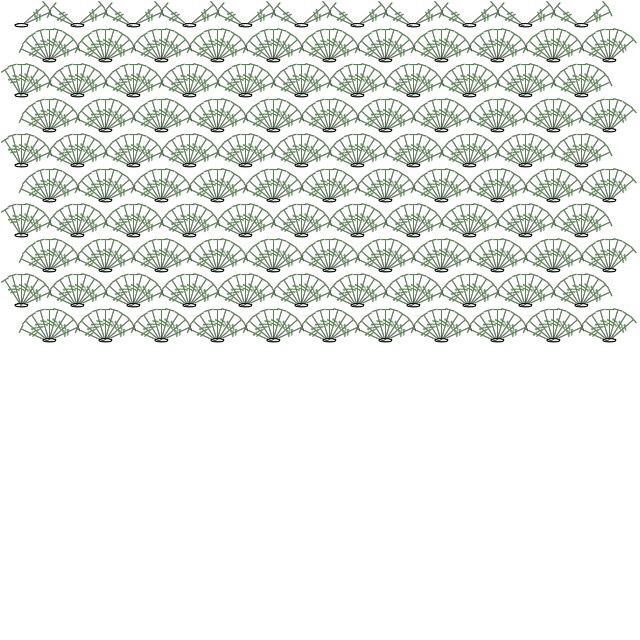chain: (14, 22, 30, 30), (70, 22, 86, 30), (126, 22, 142, 30), (182, 22, 198, 30), (238, 22, 254, 30), (294, 22, 310, 30), (350, 22, 366, 30), (406, 22, 422, 30), (462, 22, 478, 30), (518, 22, 534, 30), (574, 22, 590, 30), (14, 92, 30, 100), (70, 92, 86, 100), (126, 92, 142, 100), (182, 92, 198, 100), (238, 92, 254, 100), (294, 92, 310, 100), (350, 92, 366, 100), (406, 92, 422, 100), (462, 92, 478, 100), (518, 92, 534, 100), (574, 92, 590, 100), (14, 162, 30, 170), (70, 162, 86, 170), (126, 162, 142, 170), (182, 162, 198, 170), (238, 162, 254, 170), (294, 162, 310, 170), (350, 162, 366, 170), (406, 162, 422, 170), (462, 162, 478, 170), (518, 162, 534, 170), (574, 162, 590, 170), (14, 232, 30, 240), (70, 232, 86, 240), (126, 232, 142, 240), (182, 232, 198, 240), (238, 232, 254, 240), (294, 232, 310, 240), (350, 232, 366, 240), (406, 232, 422, 240), (462, 232, 478, 240), (518, 232, 534, 240), (574, 232, 590, 240), (14, 302, 30, 310), (70, 302, 86, 310), (126, 302, 142, 310), (182, 302, 198, 310), (238, 302, 254, 310), (294, 302, 310, 310), (350, 302, 366, 310), (406, 302, 422, 310), (462, 302, 478, 310), (518, 302, 534, 310), (574, 302, 590, 310), (42, 58, 58, 64), (98, 58, 114, 64), (154, 58, 170, 64), (210, 58, 226, 64), (266, 58, 282, 64), (322, 58, 338, 64), (378, 58, 394, 64), (434, 58, 450, 64), (490, 58, 506, 64), (546, 58, 562, 64), (602, 58, 618, 64), (42, 128, 58, 134), (98, 128, 114, 134), (154, 128, 170, 134), (210, 128, 226, 134), (266, 128, 282, 134), (322, 128, 338, 134), (378, 128, 394, 134), (434, 128, 450, 134), (490, 128, 506, 134), (546, 128, 562, 134), (602, 128, 618, 134), (42, 198, 58, 204), (98, 198, 114, 204), (154, 198, 170, 204), (210, 198, 226, 204), (266, 198, 282, 204), (322, 198, 338, 204), (378, 198, 394, 204), (434, 198, 450, 204), (490, 198, 506, 204), (546, 198, 562, 204), (602, 198, 618, 204), (42, 268, 58, 274), (98, 268, 114, 274), (154, 268, 170, 274), (210, 268, 226, 274), (266, 268, 282, 274), (322, 268, 338, 274), (378, 268, 394, 274), (434, 268, 450, 274), (490, 268, 506, 274), (546, 268, 562, 274), (602, 268, 618, 274), (42, 338, 58, 344), (98, 338, 114, 344), (154, 338, 170, 344), (210, 338, 226, 344), (266, 338, 282, 344), (322, 338, 338, 344), (378, 338, 394, 344), (434, 338, 450, 344), (490, 338, 506, 344), (546, 338, 562, 344), (602, 338, 618, 344)
fan: (18, 0, 51, 31), (49, 0, 82, 31), (74, 0, 107, 31), (105, 0, 138, 31), (130, 0, 163, 31), (161, 0, 194, 31), (186, 0, 219, 31), (217, 0, 250, 31), (242, 0, 275, 31), (273, 0, 306, 31), (298, 0, 331, 31), (329, 0, 362, 31), (354, 0, 387, 31), (385, 0, 418, 31), (410, 0, 443, 31), (441, 0, 474, 31), (466, 0, 499, 31), (497, 0, 530, 31), (522, 0, 555, 31), (553, 0, 586, 31), (578, 0, 611, 31), (21, 35, 54, 66), (46, 35, 79, 66), (77, 35, 110, 66), (102, 35, 135, 66), (133, 35, 166, 66), (158, 35, 191, 66), (189, 35, 222, 66), (214, 35, 247, 66), (245, 35, 278, 66), (270, 35, 303, 66), (301, 35, 334, 66), (326, 35, 359, 66), (357, 35, 390, 66), (382, 35, 415, 66), (413, 35, 446, 66), (438, 35, 471, 66), (469, 35, 502, 66), (494, 35, 527, 66), (525, 35, 558, 66), (550, 35, 583, 66), (581, 35, 614, 66), (606, 35, 639, 66), (18, 70, 51, 101), (49, 70, 82, 101), (74, 70, 107, 101), (105, 70, 138, 101), (130, 70, 163, 101), (161, 70, 194, 101), (186, 70, 219, 101), (217, 70, 250, 101), (242, 70, 275, 101), (273, 70, 306, 101), (298, 70, 331, 101), (329, 70, 362, 101), (354, 70, 387, 101), (385, 70, 418, 101), (410, 70, 443, 101), (441, 70, 474, 101), (466, 70, 499, 101), (497, 70, 530, 101), (522, 70, 555, 101), (553, 70, 586, 101), (578, 70, 611, 101), (21, 105, 54, 136), (46, 105, 79, 136), (77, 105, 110, 136), (102, 105, 135, 136), (133, 105, 166, 136), (158, 105, 191, 136), (189, 105, 222, 136), (214, 105, 247, 136), (245, 105, 278, 136), (270, 105, 303, 136), (301, 105, 334, 136), (326, 105, 359, 136), (357, 105, 390, 136), (382, 105, 415, 136), (413, 105, 446, 136), (438, 105, 471, 136), (469, 105, 502, 136), (494, 105, 527, 136), (525, 105, 558, 136), (550, 105, 583, 136), (581, 105, 614, 136), (606, 105, 639, 136), (18, 140, 51, 171), (49, 140, 82, 171), (74, 140, 107, 171), (105, 140, 138, 171), (130, 140, 163, 171), (161, 140, 194, 171), (186, 140, 219, 171), (217, 140, 250, 171), (242, 140, 275, 171), (273, 140, 306, 171), (298, 140, 331, 171), (329, 140, 362, 171), (354, 140, 387, 171), (385, 140, 418, 171), (410, 140, 443, 171), (441, 140, 474, 171), (466, 140, 499, 171), (497, 140, 530, 171), (522, 140, 555, 171), (553, 140, 586, 171), (578, 140, 611, 171), (21, 175, 54, 206), (46, 175, 79, 206), (77, 175, 110, 206), (102, 175, 135, 206), (133, 175, 166, 206), (158, 175, 191, 206), (189, 175, 222, 206), (214, 175, 247, 206), (245, 175, 278, 206), (270, 175, 303, 206), (301, 175, 334, 206), (326, 175, 359, 206), (357, 175, 390, 206), (382, 175, 415, 206), (413, 175, 446, 206), (438, 175, 471, 206), (469, 175, 502, 206), (494, 175, 527, 206), (525, 175, 558, 206), (550, 175, 583, 206), (581, 175, 614, 206), (606, 175, 639, 206), (18, 210, 51, 241), (49, 210, 82, 241), (74, 210, 107, 241), (105, 210, 138, 241), (130, 210, 163, 241), (161, 210, 194, 241), (186, 210, 219, 241), (217, 210, 250, 241), (242, 210, 275, 241), (273, 210, 306, 241), (298, 210, 331, 241), (329, 210, 362, 241), (354, 210, 387, 241), (385, 210, 418, 241), (410, 210, 443, 241), (441, 210, 474, 241), (466, 210, 499, 241), (497, 210, 530, 241), (522, 210, 555, 241), (553, 210, 586, 241), (578, 210, 611, 241), (21, 245, 54, 276), (46, 245, 79, 276), (77, 245, 110, 276), (102, 245, 135, 276), (133, 245, 166, 276), (158, 245, 191, 276), (189, 245, 222, 276), (214, 245, 247, 276), (245, 245, 278, 276), (270, 245, 303, 276), (301, 245, 334, 276), (326, 245, 359, 276), (357, 245, 390, 276), (382, 245, 415, 276), (413, 245, 446, 276), (438, 245, 471, 276), (469, 245, 502, 276), (494, 245, 527, 276), (525, 245, 558, 276), (550, 245, 583, 276), (581, 245, 614, 276), (606, 245, 639, 276), (18, 280, 51, 311), (49, 280, 82, 311), (74, 280, 107, 311), (105, 280, 138, 311), (130, 280, 163, 311), (161, 280, 194, 311), (186, 280, 219, 311), (217, 280, 250, 311), (242, 280, 275, 311), (273, 280, 306, 311), (298, 280, 331, 311), (329, 280, 362, 311), (354, 280, 387, 311), (385, 280, 418, 311), (410, 280, 443, 311), (441, 280, 474, 311), (466, 280, 499, 311), (497, 280, 530, 311), (522, 280, 555, 311), (553, 280, 586, 311), (578, 280, 611, 311), (21, 315, 54, 346), (46, 315, 79, 346), (77, 315, 110, 346), (102, 315, 135, 346), (133, 315, 166, 346), (158, 315, 191, 346), (189, 315, 222, 346), (214, 315, 247, 346), (245, 315, 278, 346), (270, 315, 303, 346), (301, 315, 334, 346), (326, 315, 359, 346), (357, 315, 390, 346), (382, 315, 415, 346), (413, 315, 446, 346), (438, 315, 471, 346), (469, 315, 502, 346), (494, 315, 527, 346), (525, 315, 558, 346), (550, 315, 583, 346), (581, 315, 614, 346), (606, 315, 639, 346), (27, 30, 55, 64), (45, 30, 73, 64), (83, 30, 111, 64), (101, 30, 129, 64), (139, 30, 167, 64), (157, 30, 185, 64), (195, 30, 223, 64), (213, 30, 241, 64), (251, 30, 279, 64), (269, 30, 297, 64), (307, 30, 335, 64), (325, 30, 353, 64), (363, 30, 391, 64), (381, 30, 409, 64), (419, 30, 447, 64), (437, 30, 465, 64), (475, 30, 503, 64), (493, 30, 521, 64), (531, 30, 559, 64), (549, 30, 577, 64), (587, 30, 615, 64), (605, 30, 633, 64), (17, 65, 45, 99), (55, 65, 83, 99), (73, 65, 101, 99), (111, 65, 139, 99), (129, 65, 157, 99), (167, 65, 195, 99), (185, 65, 213, 99), (223, 65, 251, 99), (241, 65, 269, 99), (279, 65, 307, 99), (297, 65, 325, 99), (335, 65, 363, 99), (353, 65, 381, 99), (391, 65, 419, 99), (409, 65, 437, 99), (447, 65, 475, 99), (465, 65, 493, 99), (503, 65, 531, 99), (521, 65, 549, 99), (559, 65, 587, 99), (577, 65, 605, 99), (27, 100, 55, 134), (45, 100, 73, 134), (83, 100, 111, 134), (101, 100, 129, 134), (139, 100, 167, 134), (157, 100, 185, 134), (195, 100, 223, 134), (213, 100, 241, 134), (251, 100, 279, 134), (269, 100, 297, 134), (307, 100, 335, 134), (325, 100, 353, 134), (363, 100, 391, 134), (381, 100, 409, 134), (419, 100, 447, 134), (437, 100, 465, 134), (475, 100, 503, 134), (493, 100, 521, 134), (531, 100, 559, 134), (549, 100, 577, 134), (587, 100, 615, 134), (605, 100, 633, 134), (17, 135, 45, 169), (55, 135, 83, 169), (73, 135, 101, 169), (111, 135, 139, 169), (129, 135, 157, 169), (167, 135, 195, 169), (185, 135, 213, 169), (223, 135, 251, 169), (241, 135, 269, 169), (279, 135, 307, 169), (297, 135, 325, 169), (335, 135, 363, 169), (353, 135, 381, 169), (391, 135, 419, 169), (409, 135, 437, 169), (447, 135, 475, 169), (465, 135, 493, 169), (503, 135, 531, 169), (521, 135, 549, 169), (559, 135, 587, 169), (577, 135, 605, 169), (27, 170, 55, 204), (45, 170, 73, 204), (83, 170, 111, 204), (101, 170, 129, 204), (139, 170, 167, 204), (157, 170, 185, 204), (195, 170, 223, 204), (213, 170, 241, 204), (251, 170, 279, 204), (269, 170, 297, 204), (307, 170, 335, 204), (325, 170, 353, 204), (363, 170, 391, 204), (381, 170, 409, 204), (419, 170, 447, 204), (437, 170, 465, 204), (475, 170, 503, 204), (493, 170, 521, 204), (531, 170, 559, 204), (549, 170, 577, 204), (587, 170, 615, 204), (605, 170, 633, 204), (17, 205, 45, 239), (55, 205, 83, 239), (73, 205, 101, 239), (111, 205, 139, 239), (129, 205, 157, 239), (167, 205, 195, 239), (185, 205, 213, 239), (223, 205, 251, 239), (241, 205, 269, 239), (279, 205, 307, 239), (297, 205, 325, 239), (335, 205, 363, 239), (353, 205, 381, 239), (391, 205, 419, 239), (409, 205, 437, 239), (447, 205, 475, 239), (465, 205, 493, 239), (503, 205, 531, 239), (521, 205, 549, 239), (559, 205, 587, 239), (577, 205, 605, 239), (27, 240, 55, 274), (45, 240, 73, 274), (83, 240, 111, 274), (101, 240, 129, 274), (139, 240, 167, 274), (157, 240, 185, 274), (195, 240, 223, 274), (213, 240, 241, 274), (251, 240, 279, 274), (269, 240, 297, 274), (307, 240, 335, 274), (325, 240, 353, 274), (363, 240, 391, 274), (381, 240, 409, 274), (419, 240, 447, 274), (437, 240, 465, 274), (475, 240, 503, 274), (493, 240, 521, 274), (531, 240, 559, 274), (549, 240, 577, 274), (587, 240, 615, 274), (605, 240, 633, 274), (17, 275, 45, 309), (55, 275, 83, 309), (73, 275, 101, 309), (111, 275, 139, 309), (129, 275, 157, 309), (167, 275, 195, 309), (185, 275, 213, 309), (223, 275, 251, 309), (241, 275, 269, 309), (279, 275, 307, 309), (297, 275, 325, 309), (335, 275, 363, 309), (353, 275, 381, 309), (391, 275, 419, 309), (409, 275, 437, 309), (447, 275, 475, 309), (465, 275, 493, 309), (503, 275, 531, 309), (521, 275, 549, 309), (559, 275, 587, 309), (577, 275, 605, 309), (27, 310, 55, 344), (45, 310, 73, 344), (83, 310, 111, 344), (101, 310, 129, 344), (139, 310, 167, 344), (157, 310, 185, 344), (195, 310, 223, 344), (213, 310, 241, 344), (251, 310, 279, 344), (269, 310, 297, 344), (307, 310, 335, 344), (325, 310, 353, 344), (363, 310, 391, 344), (381, 310, 409, 344), (419, 310, 447, 344), (437, 310, 465, 344), (475, 310, 503, 344), (493, 310, 521, 344), (531, 310, 559, 344), (549, 310, 577, 344), (587, 310, 615, 344), (605, 310, 633, 344), (0, 65, 27, 99), (0, 135, 27, 169), (0, 205, 27, 239), (0, 275, 27, 309), (19, 7, 54, 31), (46, 7, 81, 31), (75, 7, 110, 31), (102, 7, 137, 31), (131, 7, 166, 31), (158, 7, 193, 31), (187, 7, 222, 31), (214, 7, 249, 31), (243, 7, 278, 31), (270, 7, 305, 31), (299, 7, 334, 31), (326, 7, 361, 31), (355, 7, 390, 31), (382, 7, 417, 31), (411, 7, 446, 31), (438, 7, 473, 31), (467, 7, 502, 31), (494, 7, 529, 31), (523, 7, 558, 31), (550, 7, 585, 31), (579, 7, 614, 31), (18, 42, 53, 66), (47, 42, 82, 66), (74, 42, 109, 66), (103, 42, 138, 66), (130, 42, 165, 66), (159, 42, 194, 66), (186, 42, 221, 66), (215, 42, 250, 66), (242, 42, 277, 66), (271, 42, 306, 66), (298, 42, 333, 66), (327, 42, 362, 66), (354, 42, 389, 66), (383, 42, 418, 66), (410, 42, 445, 66), (439, 42, 474, 66), (466, 42, 501, 66), (495, 42, 530, 66), (522, 42, 557, 66), (551, 42, 586, 66), (578, 42, 613, 66), (19, 77, 54, 101), (46, 77, 81, 101), (75, 77, 110, 101), (102, 77, 137, 101), (131, 77, 166, 101), (158, 77, 193, 101), (187, 77, 222, 101), (214, 77, 249, 101), (243, 77, 278, 101), (270, 77, 305, 101), (299, 77, 334, 101), (326, 77, 361, 101), (355, 77, 390, 101), (382, 77, 417, 101), (411, 77, 446, 101), (438, 77, 473, 101), (467, 77, 502, 101), (494, 77, 529, 101), (523, 77, 558, 101), (550, 77, 585, 101), (579, 77, 614, 101), (18, 112, 53, 136), (47, 112, 82, 136), (74, 112, 109, 136), (103, 112, 138, 136), (130, 112, 165, 136), (159, 112, 194, 136), (186, 112, 221, 136), (215, 112, 250, 136), (242, 112, 277, 136), (271, 112, 306, 136), (298, 112, 333, 136), (327, 112, 362, 136), (354, 112, 389, 136), (383, 112, 418, 136), (410, 112, 445, 136), (439, 112, 474, 136), (466, 112, 501, 136), (495, 112, 530, 136), (522, 112, 557, 136), (551, 112, 586, 136), (578, 112, 613, 136), (19, 147, 54, 171), (46, 147, 81, 171), (75, 147, 110, 171), (102, 147, 137, 171), (131, 147, 166, 171), (158, 147, 193, 171), (187, 147, 222, 171), (214, 147, 249, 171), (243, 147, 278, 171), (270, 147, 305, 171), (299, 147, 334, 171), (326, 147, 361, 171), (355, 147, 390, 171), (382, 147, 417, 171), (411, 147, 446, 171), (438, 147, 473, 171), (467, 147, 502, 171), (494, 147, 529, 171), (523, 147, 558, 171), (550, 147, 585, 171), (579, 147, 614, 171), (18, 182, 53, 206), (47, 182, 82, 206), (74, 182, 109, 206), (103, 182, 138, 206), (130, 182, 165, 206), (159, 182, 194, 206), (186, 182, 221, 206), (215, 182, 250, 206), (242, 182, 277, 206), (271, 182, 306, 206), (298, 182, 333, 206), (327, 182, 362, 206), (354, 182, 389, 206), (383, 182, 418, 206), (410, 182, 445, 206), (439, 182, 474, 206), (466, 182, 501, 206), (495, 182, 530, 206), (522, 182, 557, 206), (551, 182, 586, 206), (578, 182, 613, 206), (19, 217, 54, 241), (46, 217, 81, 241), (75, 217, 110, 241), (102, 217, 137, 241), (131, 217, 166, 241), (158, 217, 193, 241), (187, 217, 222, 241), (214, 217, 249, 241), (243, 217, 278, 241), (270, 217, 305, 241), (299, 217, 334, 241), (326, 217, 361, 241), (355, 217, 390, 241), (382, 217, 417, 241), (411, 217, 446, 241), (438, 217, 473, 241), (467, 217, 502, 241), (494, 217, 529, 241), (523, 217, 558, 241), (550, 217, 585, 241), (579, 217, 614, 241), (18, 252, 53, 276), (47, 252, 82, 276), (74, 252, 109, 276), (103, 252, 138, 276), (130, 252, 165, 276), (159, 252, 194, 276), (186, 252, 221, 276), (215, 252, 250, 276), (242, 252, 277, 276), (271, 252, 306, 276), (298, 252, 333, 276), (327, 252, 362, 276), (354, 252, 389, 276), (383, 252, 418, 276), (410, 252, 445, 276), (439, 252, 474, 276), (466, 252, 501, 276), (495, 252, 530, 276), (522, 252, 557, 276), (551, 252, 586, 276), (578, 252, 613, 276), (19, 287, 54, 311), (46, 287, 81, 311), (75, 287, 110, 311), (102, 287, 137, 311), (131, 287, 166, 311), (158, 287, 193, 311), (187, 287, 222, 311), (214, 287, 249, 311), (243, 287, 278, 311), (270, 287, 305, 311), (299, 287, 334, 311), (326, 287, 361, 311), (355, 287, 390, 311), (382, 287, 417, 311), (411, 287, 446, 311), (438, 287, 473, 311), (467, 287, 502, 311), (494, 287, 529, 311), (523, 287, 558, 311), (550, 287, 585, 311), (579, 287, 614, 311), (18, 322, 53, 346), (47, 322, 82, 346), (74, 322, 109, 346), (103, 322, 138, 346), (130, 322, 165, 346), (159, 322, 194, 346), (186, 322, 221, 346), (215, 322, 250, 346), (242, 322, 277, 346), (271, 322, 306, 346), (298, 322, 333, 346), (327, 322, 362, 346), (354, 322, 389, 346), (383, 322, 418, 346), (410, 322, 445, 346), (439, 322, 474, 346), (466, 322, 501, 346), (495, 322, 530, 346), (522, 322, 557, 346), (551, 322, 586, 346), (578, 322, 613, 346), (35, 28, 56, 63), (44, 28, 65, 63), (91, 28, 112, 63), (100, 28, 121, 63), (147, 28, 168, 63), (156, 28, 177, 63), (203, 28, 224, 63), (212, 28, 233, 63), (259, 28, 280, 63), (268, 28, 289, 63), (315, 28, 336, 63), (324, 28, 345, 63), (371, 28, 392, 63), (380, 28, 401, 63), (427, 28, 448, 63), (436, 28, 457, 63), (483, 28, 504, 63), (492, 28, 513, 63), (539, 28, 560, 63), (548, 28, 569, 63), (595, 28, 616, 63), (604, 28, 625, 63), (7, 63, 28, 98), (16, 63, 37, 98), (63, 63, 84, 98), (72, 63, 93, 98), (119, 63, 140, 98), (128, 63, 149, 98), (175, 63, 196, 98), (184, 63, 205, 98), (231, 63, 252, 98), (240, 63, 261, 98), (287, 63, 308, 98), (296, 63, 317, 98), (343, 63, 364, 98), (352, 63, 373, 98), (399, 63, 420, 98), (408, 63, 429, 98), (455, 63, 476, 98), (464, 63, 485, 98), (511, 63, 532, 98), (520, 63, 541, 98), (567, 63, 588, 98), (576, 63, 597, 98), (35, 98, 56, 133), (44, 98, 65, 133), (91, 98, 112, 133), (100, 98, 121, 133), (147, 98, 168, 133), (156, 98, 177, 133), (203, 98, 224, 133), (212, 98, 233, 133), (259, 98, 280, 133), (268, 98, 289, 133), (315, 98, 336, 133), (324, 98, 345, 133), (371, 98, 392, 133), (380, 98, 401, 133), (427, 98, 448, 133), (436, 98, 457, 133), (483, 98, 504, 133), (492, 98, 513, 133), (539, 98, 560, 133), (548, 98, 569, 133), (595, 98, 616, 133), (604, 98, 625, 133), (7, 133, 28, 168), (16, 133, 37, 168), (63, 133, 84, 168), (72, 133, 93, 168), (119, 133, 140, 168), (128, 133, 149, 168), (175, 133, 196, 168), (184, 133, 205, 168), (231, 133, 252, 168), (240, 133, 261, 168), (287, 133, 308, 168), (296, 133, 317, 168), (343, 133, 364, 168), (352, 133, 373, 168), (399, 133, 420, 168), (408, 133, 429, 168), (455, 133, 476, 168), (464, 133, 485, 168), (511, 133, 532, 168), (520, 133, 541, 168), (567, 133, 588, 168), (576, 133, 597, 168), (35, 168, 56, 203), (44, 168, 65, 203), (91, 168, 112, 203), (100, 168, 121, 203), (147, 168, 168, 203), (156, 168, 177, 203), (203, 168, 224, 203), (212, 168, 233, 203), (259, 168, 280, 203), (268, 168, 289, 203), (315, 168, 336, 203), (324, 168, 345, 203), (371, 168, 392, 203), (380, 168, 401, 203), (427, 168, 448, 203), (436, 168, 457, 203), (483, 168, 504, 203), (492, 168, 513, 203), (539, 168, 560, 203), (548, 168, 569, 203), (595, 168, 616, 203), (604, 168, 625, 203), (7, 203, 28, 238), (16, 203, 37, 238), (63, 203, 84, 238), (72, 203, 93, 238), (119, 203, 140, 238), (128, 203, 149, 238), (175, 203, 196, 238), (184, 203, 205, 238), (231, 203, 252, 238), (240, 203, 261, 238), (287, 203, 308, 238), (296, 203, 317, 238), (343, 203, 364, 238), (352, 203, 373, 238), (399, 203, 420, 238), (408, 203, 429, 238), (455, 203, 476, 238), (464, 203, 485, 238), (511, 203, 532, 238), (520, 203, 541, 238), (567, 203, 588, 238), (576, 203, 597, 238), (35, 238, 56, 273), (44, 238, 65, 273), (91, 238, 112, 273), (100, 238, 121, 273), (147, 238, 168, 273), (156, 238, 177, 273), (203, 238, 224, 273), (212, 238, 233, 273), (259, 238, 280, 273), (268, 238, 289, 273), (315, 238, 336, 273), (324, 238, 345, 273), (371, 238, 392, 273), (380, 238, 401, 273), (427, 238, 448, 273), (436, 238, 457, 273), (483, 238, 504, 273), (492, 238, 513, 273), (539, 238, 560, 273), (548, 238, 569, 273), (595, 238, 616, 273), (604, 238, 625, 273), (7, 273, 28, 308), (16, 273, 37, 308), (63, 273, 84, 308), (72, 273, 93, 308), (119, 273, 140, 308), (128, 273, 149, 308), (175, 273, 196, 308), (184, 273, 205, 308), (231, 273, 252, 308), (240, 273, 261, 308), (287, 273, 308, 308), (296, 273, 317, 308), (343, 273, 364, 308), (352, 273, 373, 308), (399, 273, 420, 308), (408, 273, 429, 308), (455, 273, 476, 308), (464, 273, 485, 308), (511, 273, 532, 308), (520, 273, 541, 308), (567, 273, 588, 308), (576, 273, 597, 308), (35, 308, 56, 343), (44, 308, 65, 343), (91, 308, 112, 343), (100, 308, 121, 343), (147, 308, 168, 343), (156, 308, 177, 343), (203, 308, 224, 343), (212, 308, 233, 343), (259, 308, 280, 343), (268, 308, 289, 343), (315, 308, 336, 343), (324, 308, 345, 343), (371, 308, 392, 343), (380, 308, 401, 343), (427, 308, 448, 343), (436, 308, 457, 343), (483, 308, 504, 343), (492, 308, 513, 343), (539, 308, 560, 343), (548, 308, 569, 343), (595, 308, 616, 343), (604, 308, 625, 343), (44, 28, 56, 61), (100, 28, 112, 61), (156, 28, 168, 61), (212, 28, 224, 61), (268, 28, 280, 61), (324, 28, 336, 61), (380, 28, 392, 61), (436, 28, 448, 61), (492, 28, 504, 61), (548, 28, 560, 61), (604, 28, 616, 61), (16, 63, 28, 96), (72, 63, 84, 96), (128, 63, 140, 96), (184, 63, 196, 96), (240, 63, 252, 96), (296, 63, 308, 96), (352, 63, 364, 96), (408, 63, 420, 96), (464, 63, 476, 96), (520, 63, 532, 96), (576, 63, 588, 96), (44, 98, 56, 131), (100, 98, 112, 131), (156, 98, 168, 131), (212, 98, 224, 131), (268, 98, 280, 131), (324, 98, 336, 131), (380, 98, 392, 131), (436, 98, 448, 131), (492, 98, 504, 131), (548, 98, 560, 131), (604, 98, 616, 131), (16, 133, 28, 166), (72, 133, 84, 166), (128, 133, 140, 166), (184, 133, 196, 166), (240, 133, 252, 166), (296, 133, 308, 166), (352, 133, 364, 166), (408, 133, 420, 166), (464, 133, 476, 166), (520, 133, 532, 166), (576, 133, 588, 166), (44, 168, 56, 201), (100, 168, 112, 201), (156, 168, 168, 201), (212, 168, 224, 201), (268, 168, 280, 201), (324, 168, 336, 201), (380, 168, 392, 201), (436, 168, 448, 201), (492, 168, 504, 201), (548, 168, 560, 201), (604, 168, 616, 201), (16, 203, 28, 236), (72, 203, 84, 236), (128, 203, 140, 236), (184, 203, 196, 236), (240, 203, 252, 236), (296, 203, 308, 236), (352, 203, 364, 236), (408, 203, 420, 236), (464, 203, 476, 236), (520, 203, 532, 236), (576, 203, 588, 236), (44, 238, 56, 271), (100, 238, 112, 271), (156, 238, 168, 271), (212, 238, 224, 271), (268, 238, 280, 271), (324, 238, 336, 271), (380, 238, 392, 271), (436, 238, 448, 271), (492, 238, 504, 271), (548, 238, 560, 271), (604, 238, 616, 271), (16, 273, 28, 306), (72, 273, 84, 306), (128, 273, 140, 306), (184, 273, 196, 306), (240, 273, 252, 306), (296, 273, 308, 306), (352, 273, 364, 306), (408, 273, 420, 306), (464, 273, 476, 306), (520, 273, 532, 306), (576, 273, 588, 306), (44, 308, 56, 341), (100, 308, 112, 341), (156, 308, 168, 341), (212, 308, 224, 341), (268, 308, 280, 341), (324, 308, 336, 341), (380, 308, 392, 341), (436, 308, 448, 341), (492, 308, 504, 341), (548, 308, 560, 341), (604, 308, 616, 341)
